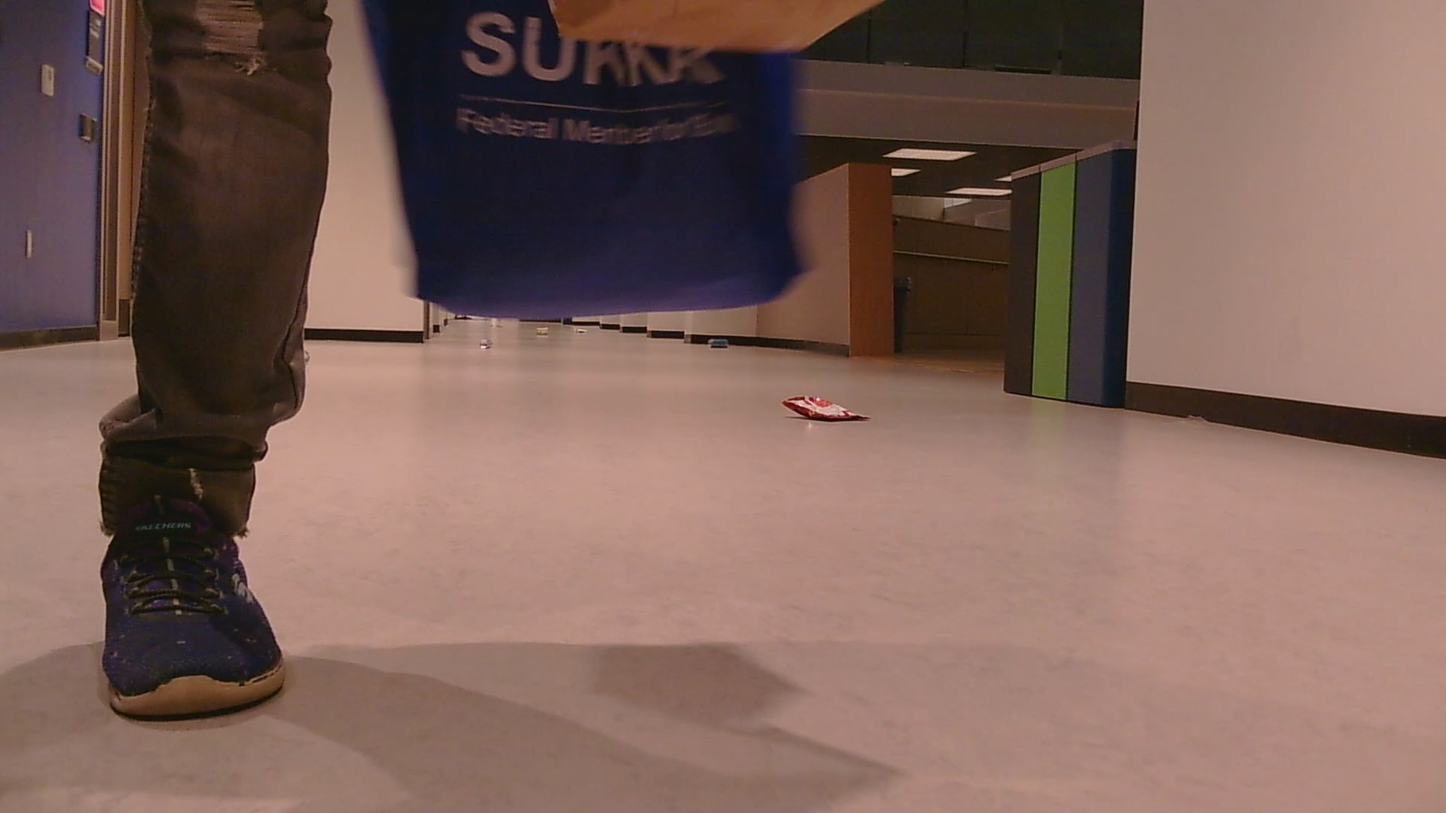carton: (767, 373, 909, 443)
